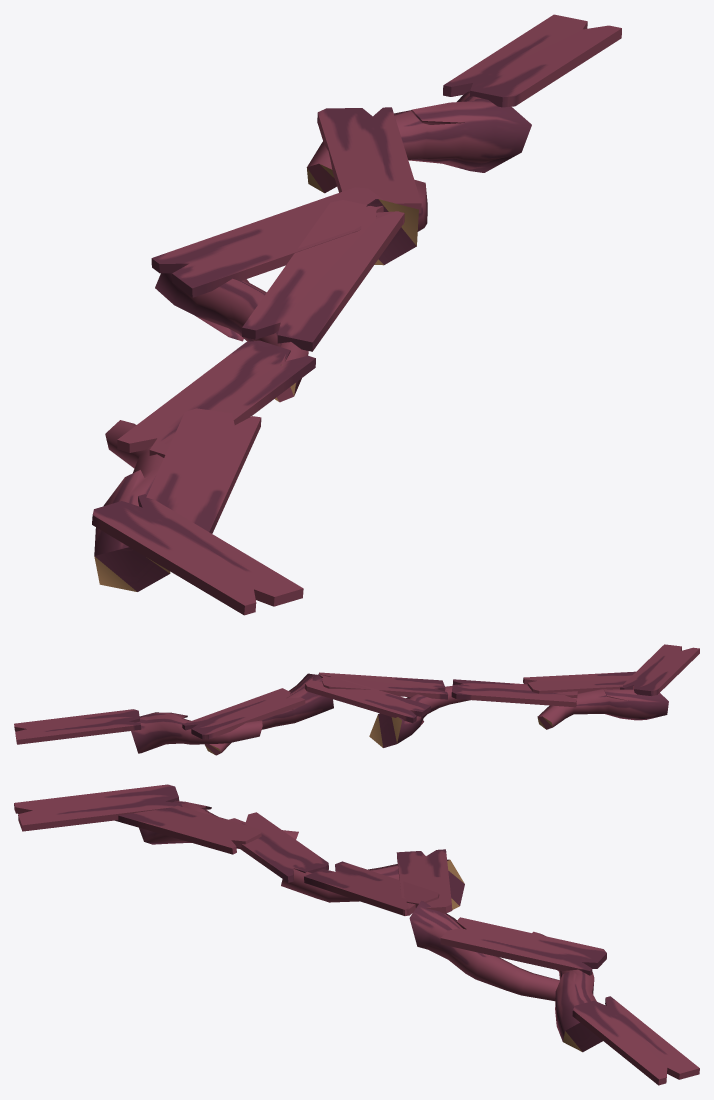
File: mdl_naturalBridge.fbx
The picture shows the model from 3 angles, top to bottom: view 1: azimuth 30°, elevation 25°; view 2: azimuth 150°, elevation 25°; view 3: azimuth 270°, elevation 25°; orthographic projection. The views are drawn at different scales.
Parts seen in each view (by area): view 1: Plane.005, Plane.004, Plane.002, mdl_treeRiver, Plane.006, Plane.003, Plane, Plane.001, mdl_treeRiver.002, mdl_treeRiver.003, mdl_treeRiver.001; view 2: mdl_treeRiver.002, Plane, mdl_treeRiver, Plane.001, Plane.002, Plane.003, Plane.004, Plane.005, Plane.006, mdl_treeRiver.001, mdl_treeRiver.003; view 3: Plane, Plane.001, Plane.004, mdl_treeRiver.001, Plane.006, Plane.005, Plane.003, mdl_treeRiver, Plane.002, mdl_treeRiver.003, mdl_treeRiver.002.
Part boxes in pixels (bbox=[...]): Plane.005: bbox=[242, 200, 404, 351]; Plane.004: bbox=[92, 494, 303, 615]; Plane.002: bbox=[151, 187, 403, 297]; mdl_treeRiver: bbox=[306, 91, 531, 193]; Plane.006: bbox=[146, 408, 261, 533]; Plane.003: bbox=[117, 340, 315, 457]; Plane: bbox=[443, 14, 621, 107]; Plane.001: bbox=[317, 107, 421, 213]; mdl_treeRiver.002: bbox=[94, 420, 170, 591]; mdl_treeRiver.003: bbox=[155, 273, 308, 402]; mdl_treeRiver.001: bbox=[366, 179, 427, 265]; mdl_treeRiver.002: bbox=[537, 689, 668, 729]; Plane: bbox=[14, 709, 141, 744]; mdl_treeRiver: bbox=[131, 712, 262, 753]; Plane.001: bbox=[182, 688, 305, 739]; Plane.002: bbox=[304, 674, 430, 723]; Plane.003: bbox=[451, 679, 577, 707]; Plane.004: bbox=[620, 644, 699, 695]; Plane.005: bbox=[319, 672, 447, 699]; Plane.006: bbox=[523, 671, 635, 693]; mdl_treeRiver.001: bbox=[205, 673, 333, 755]; mdl_treeRiver.003: bbox=[369, 684, 470, 747]; Plane: bbox=[572, 996, 699, 1085]; Plane.001: bbox=[440, 917, 606, 975]; Plane.004: bbox=[14, 784, 182, 831]; mdl_treeRiver.001: bbox=[409, 900, 559, 1001]; Plane.006: bbox=[115, 805, 261, 854]; Plane.005: bbox=[304, 861, 439, 915]; Plane.003: bbox=[228, 812, 328, 882]; mdl_treeRiver: bbox=[532, 931, 602, 1052]; Plane.002: bbox=[396, 849, 452, 915]; mdl_treeRiver.003: bbox=[281, 859, 464, 909]; mdl_treeRiver.002: bbox=[139, 800, 298, 848].
Bounding box in the file's own units: 21.55 × 2.96 × 21.49.
